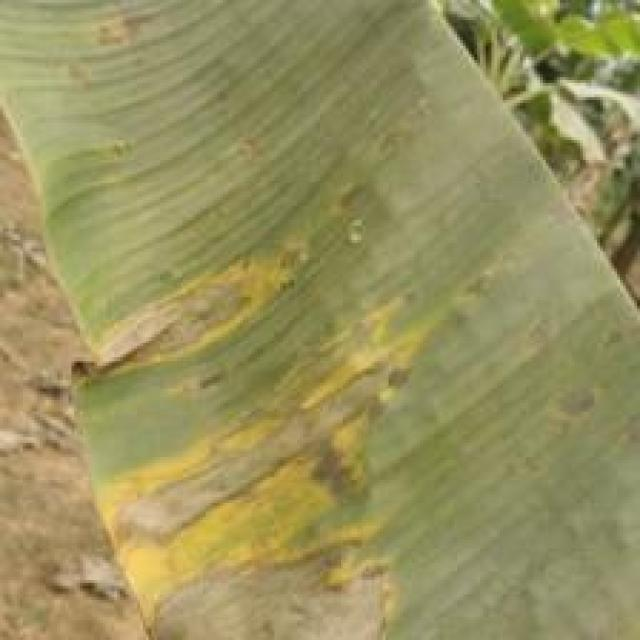Downey_mildrew: (42, 186, 510, 640), (534, 366, 640, 468), (81, 14, 173, 60)
